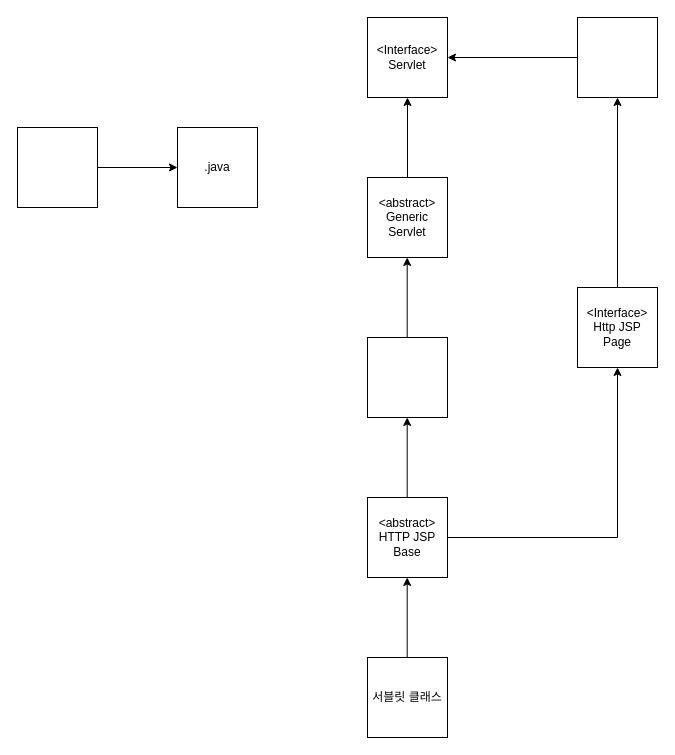
Some shapes in this 675 by 755 pixel diagram are drawn without their labels. Each missing label, with the centre of its shape:
".jsp" goes at pixel 57 167.
"<abstract> HTTP Servlet" goes at pixel 407 377.
"<Interface> Jsp Page" goes at pixel 617 57.
